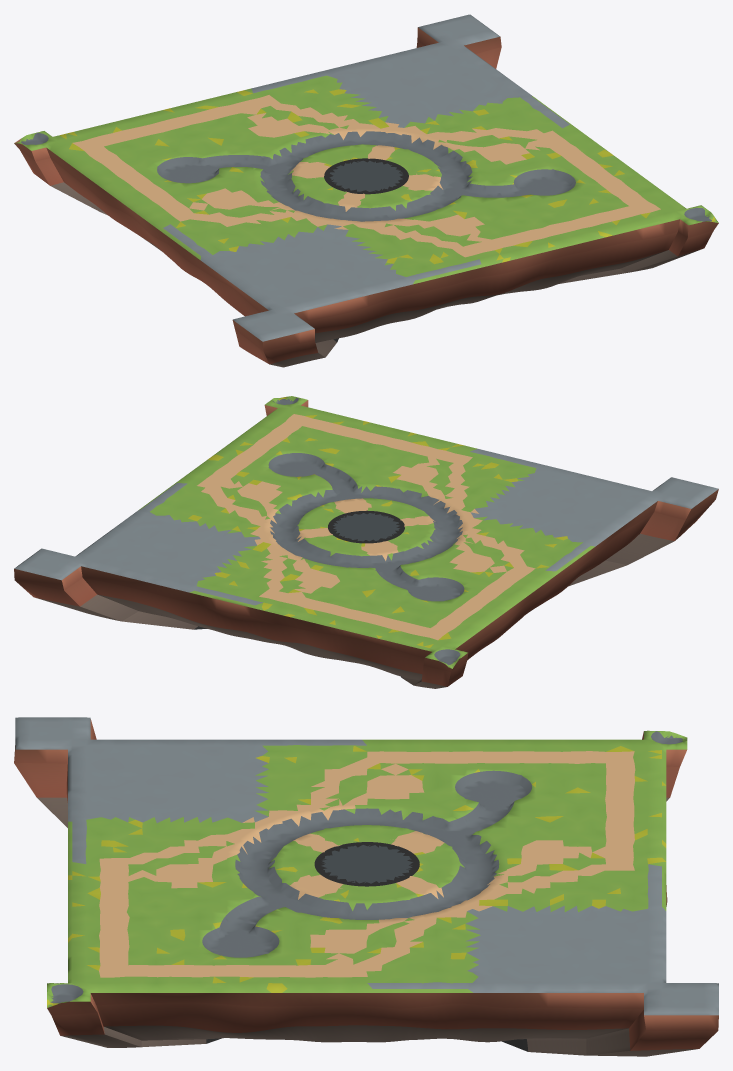
Rendered from island_chassis.glb.
3 renders of one model, top to bottom at view 1: azimuth 30°, elevation 25°; view 2: azimuth 150°, elevation 25°; view 3: azimuth 270°, elevation 25°, orthographic. The views are drawn at different scales.
Visible parts, largest first — view 1: island_chassis; view 2: island_chassis; view 3: island_chassis.
Boxes of the visible parts, left/top/right/bottom form: island_chassis: left=14, top=14, right=718, bottom=367; island_chassis: left=14, top=396, right=718, bottom=688; island_chassis: left=14, top=717, right=718, bottom=1056.
Size of the model in its own units: 101 by 19.5 by 100.
1 material, 1 textured.
